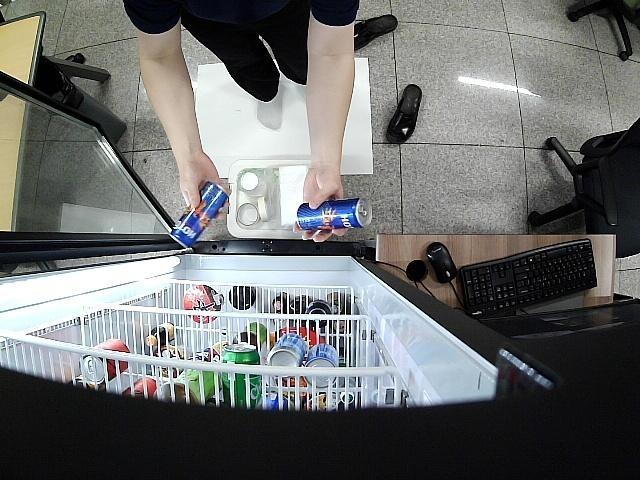16_hot6: (168, 182, 230, 249), (297, 198, 374, 232)
